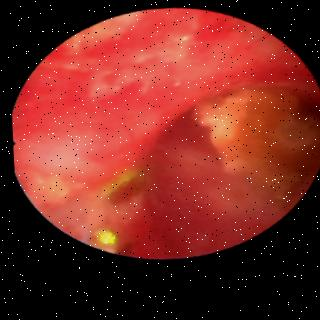laser: (99, 174, 137, 197), (94, 233, 109, 246)
stone: (189, 93, 320, 205)
tissue: (9, 16, 316, 259)
